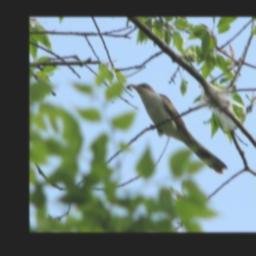Cuckoo: (128, 81, 229, 171)
